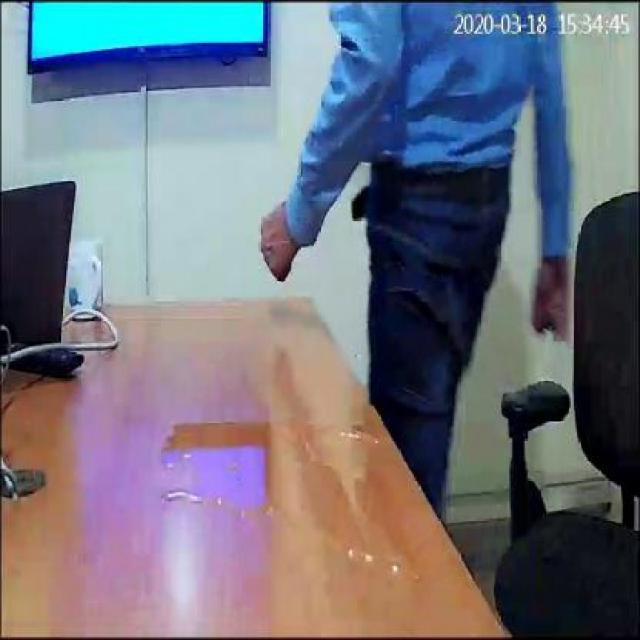spill: (160, 401, 466, 581)
